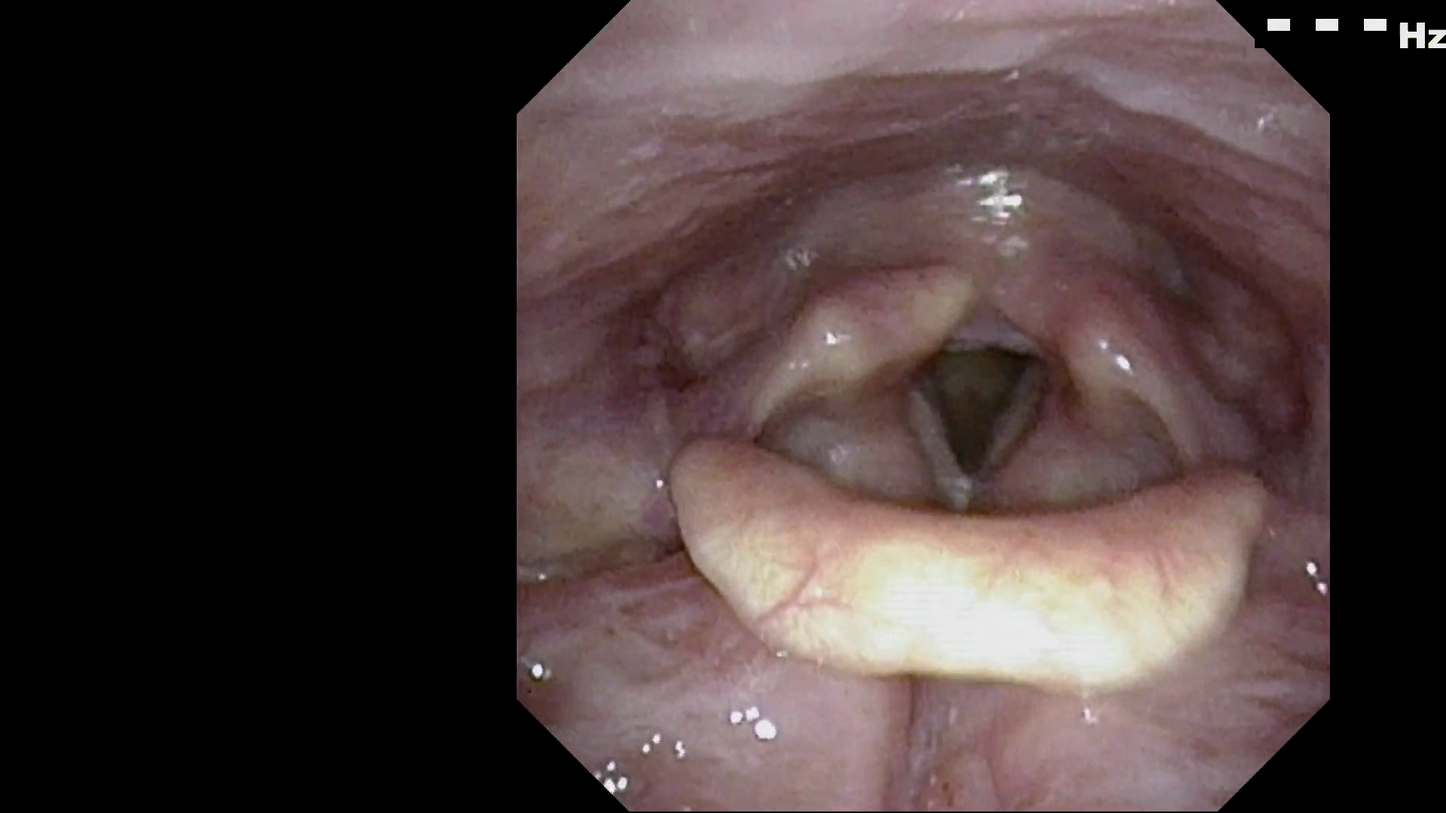epiglottis: (659, 418, 1276, 692)
trachea: (892, 316, 1058, 489)
